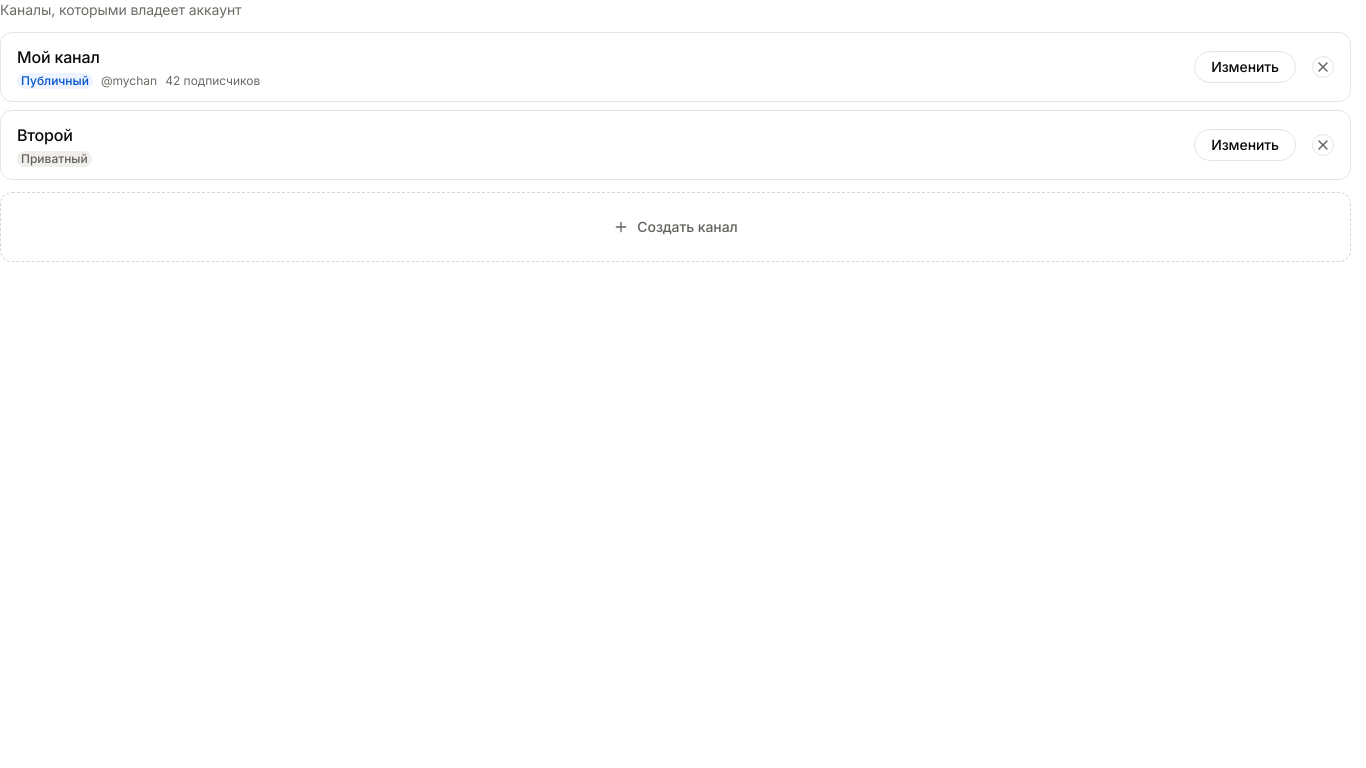
the create button opens the create dialog
The width and height of the screenshot is (1366, 768).
Check: the text "Мой канал" is shown, box [17,47,100,67]
Click the button "Создать канал" at [676, 227], box [0,192,1351,262]
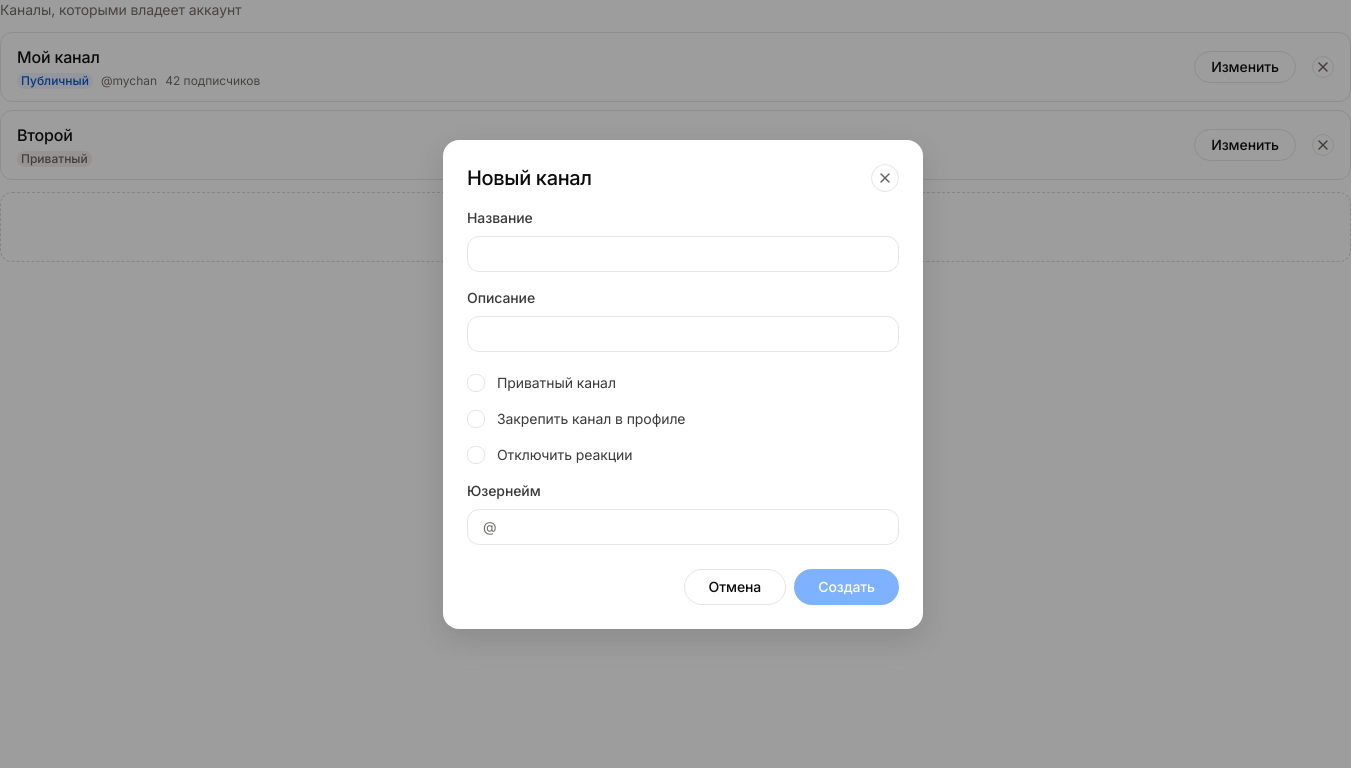
Check: the text "Новый канал" is shown, box [467,164,592,192]
